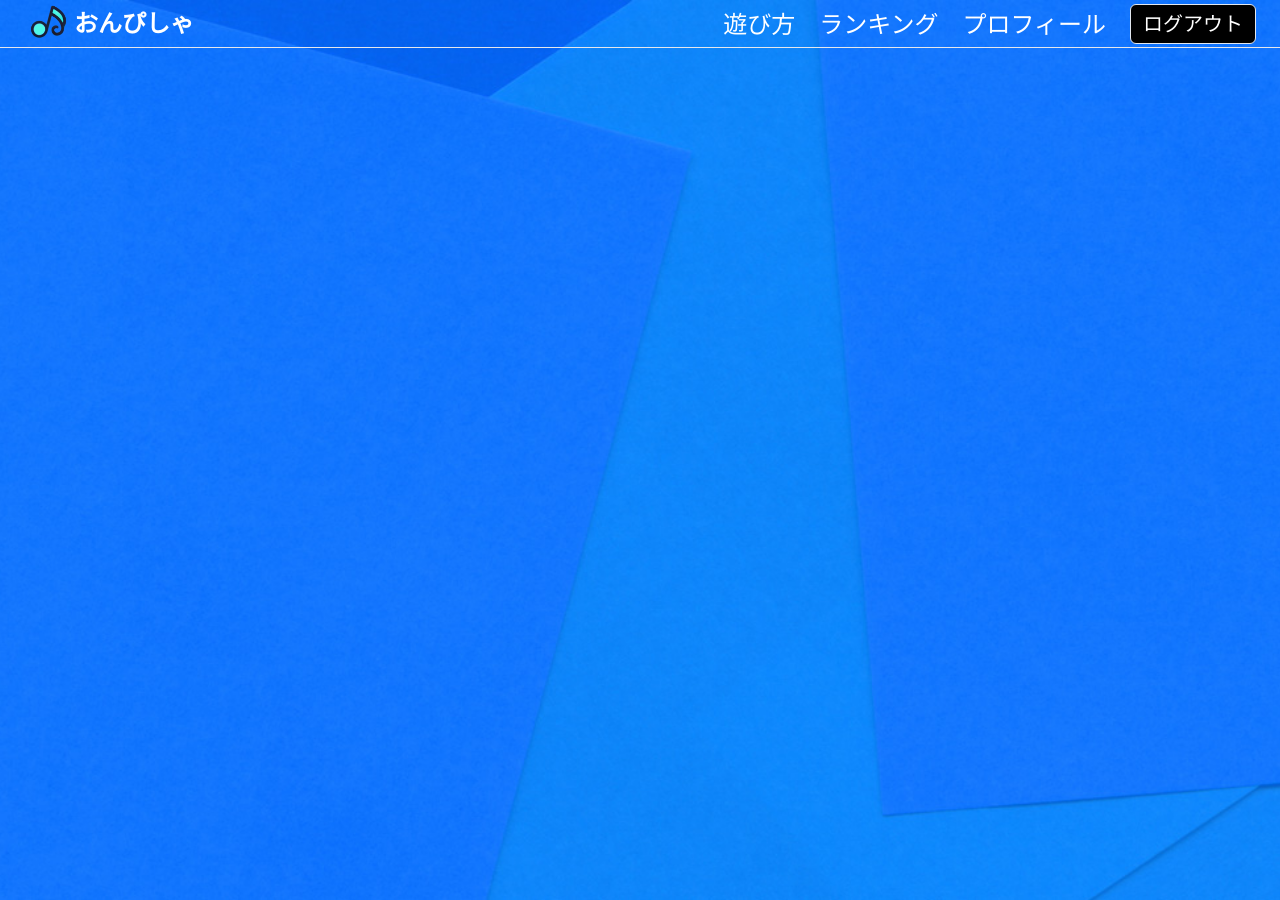
Test case: ヘッダー › '遊び方'モーダルで'ハモり'ボタンをクリックするとハモりモードの説明が開く
Click the button "遊び方" at (759, 24), box [723,8,795,40]
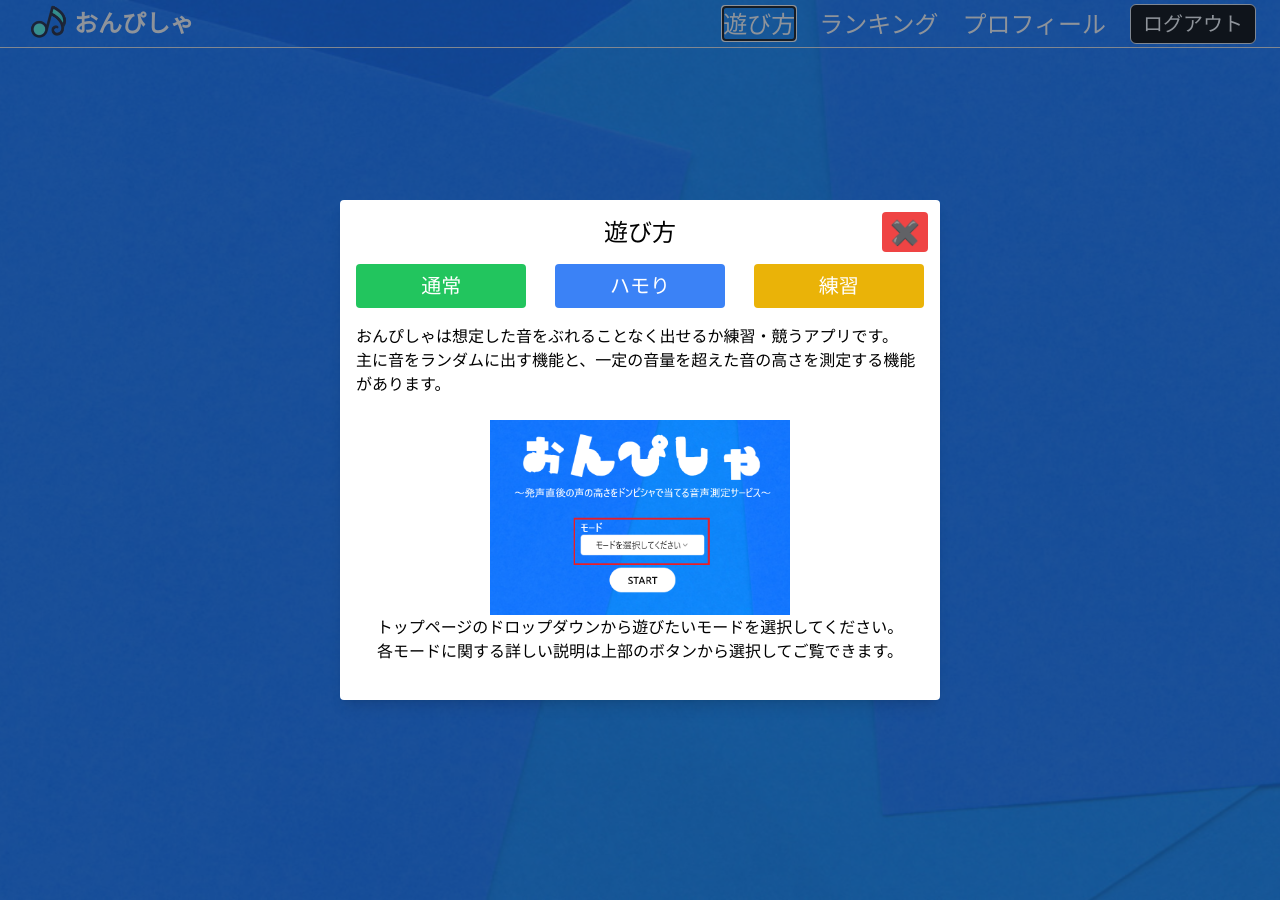
Expected: the button "ハモり" is shown
Click the button "ハモり" at (640, 286), box [555,264,725,308]
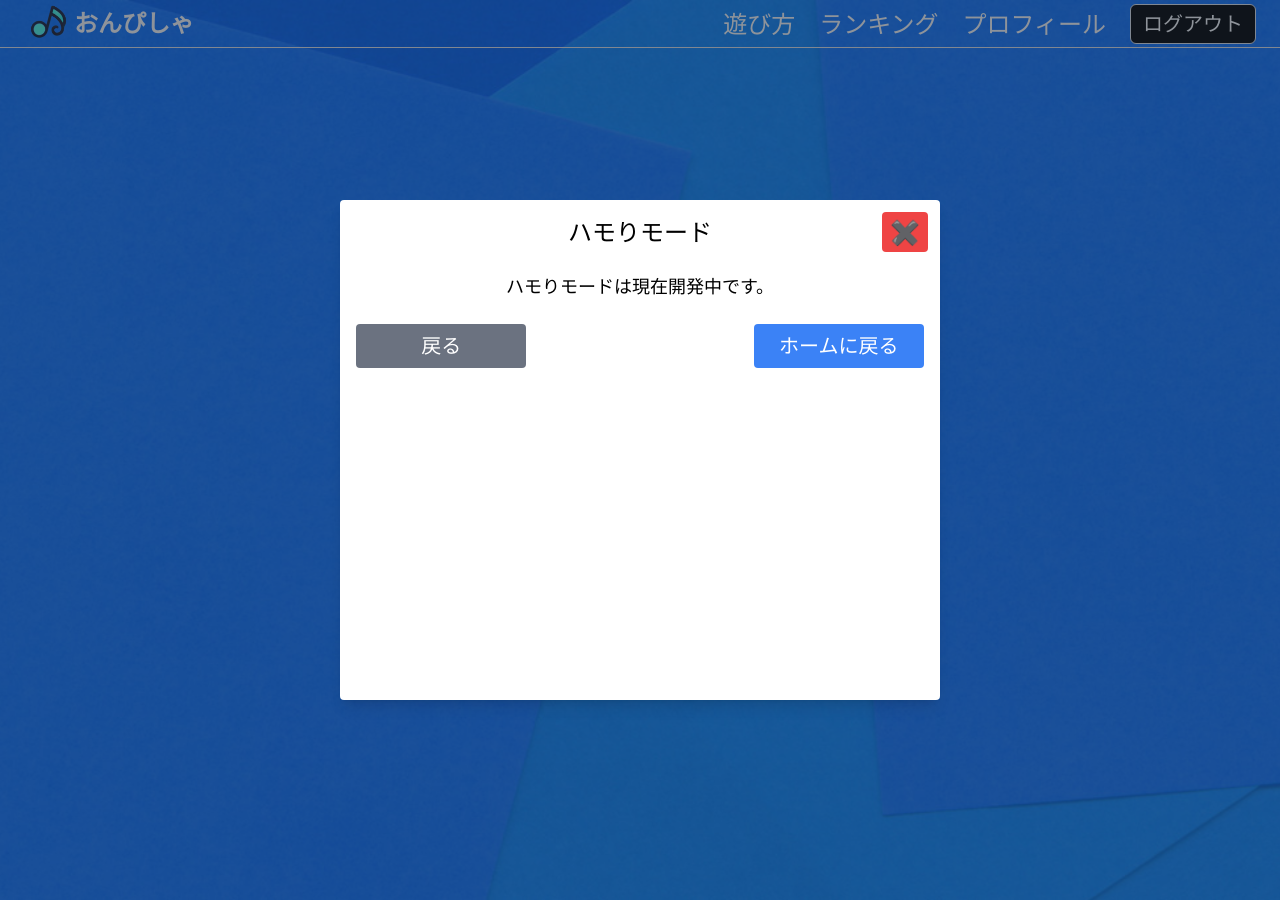
Expected: the heading "ハモりモード" is shown, [568,216,712,248]
